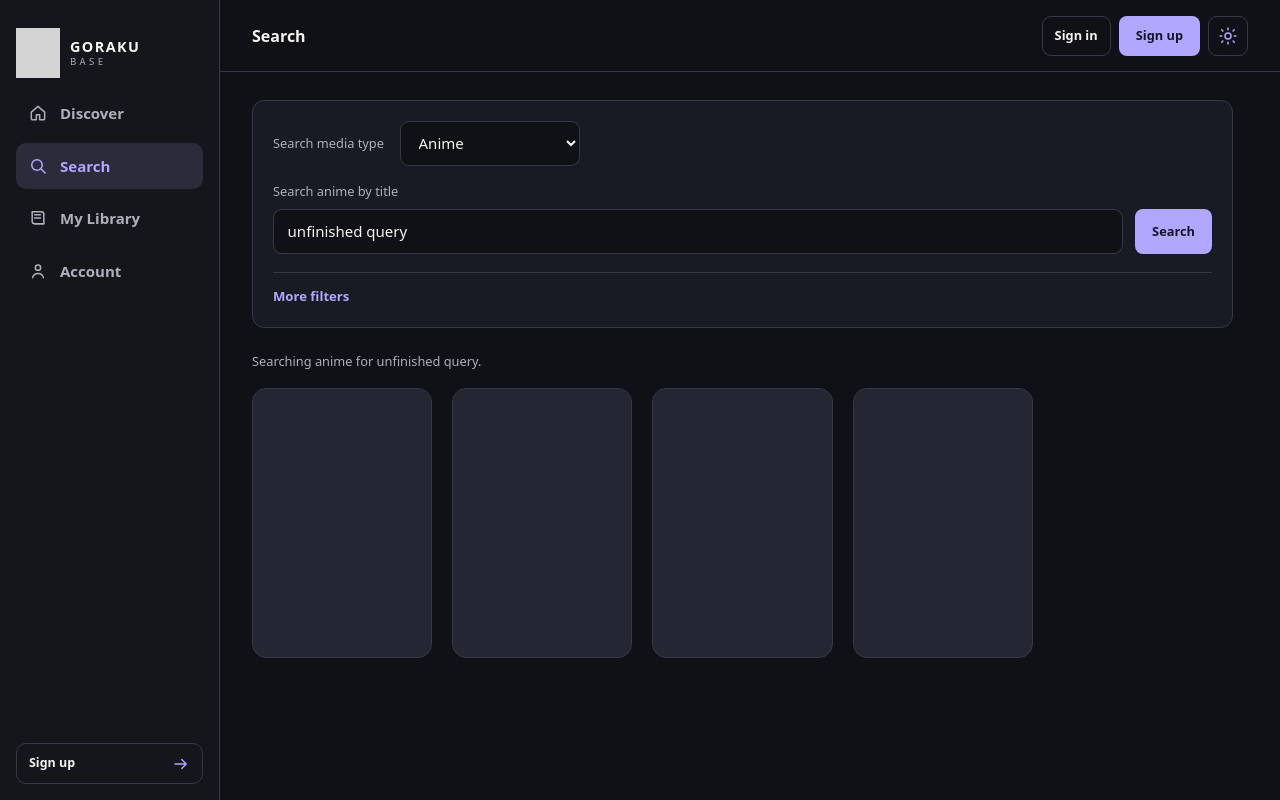
Scenario: changes workspace only through sidebar selection and retains search drafts
This screenshot has width=1280, height=800.
Earlier steps of the test are not shown.
Click the button "Account".
click(110, 271)  # box x1=16 y1=248 x2=203 y2=294
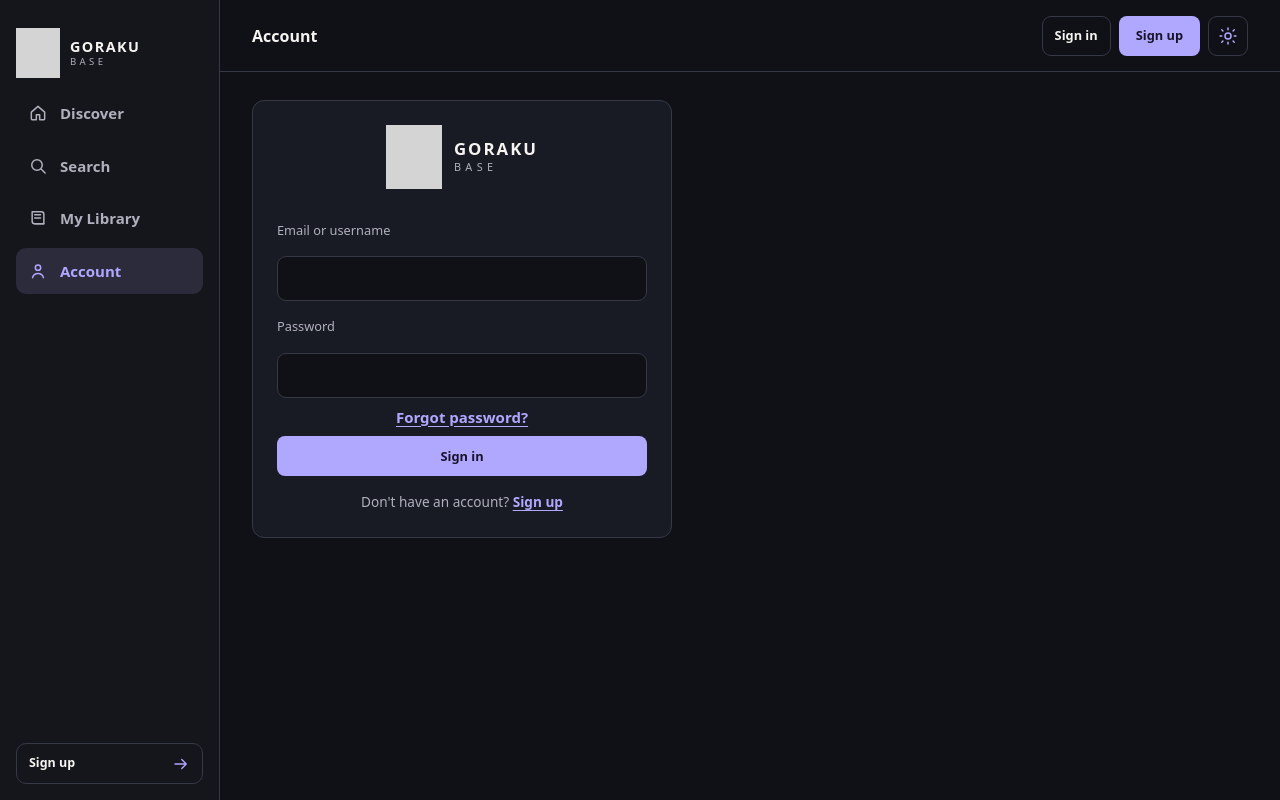
Click the button "Search".
click(110, 166)  # box x1=16 y1=142 x2=203 y2=189
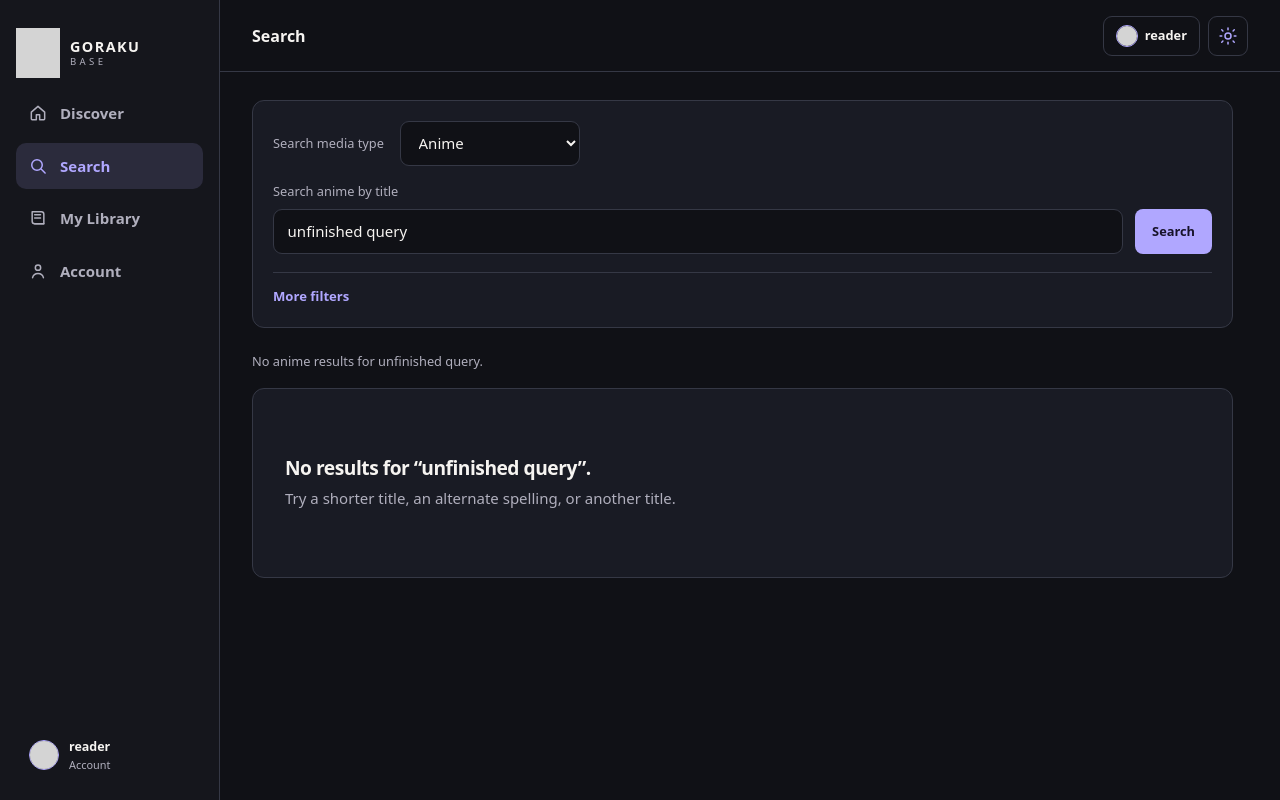
Result: the search field holds "unfinished query" at x1=273 y1=209 x2=1123 y2=254
